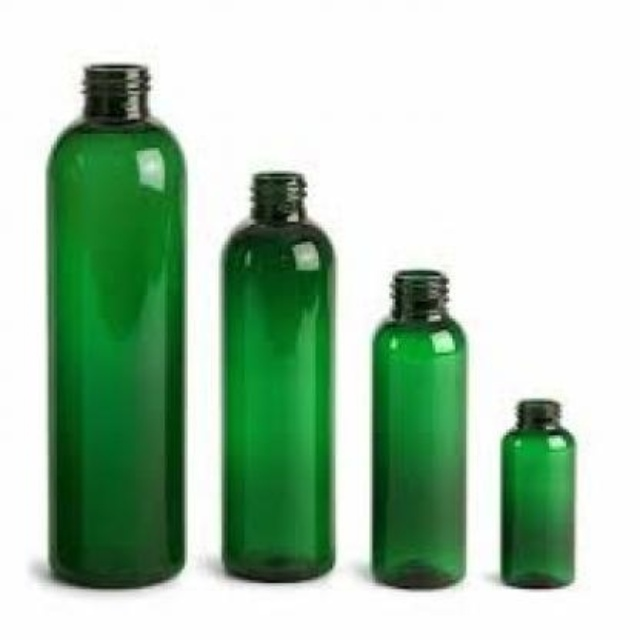trash: (48, 65, 185, 586), (223, 172, 334, 580), (372, 269, 465, 586), (502, 400, 574, 586)
